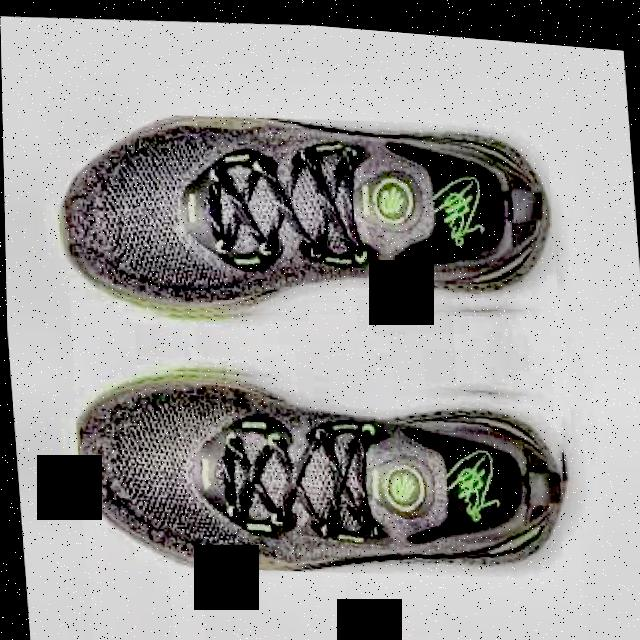shoe: (50, 85, 560, 348), (69, 336, 573, 595)
